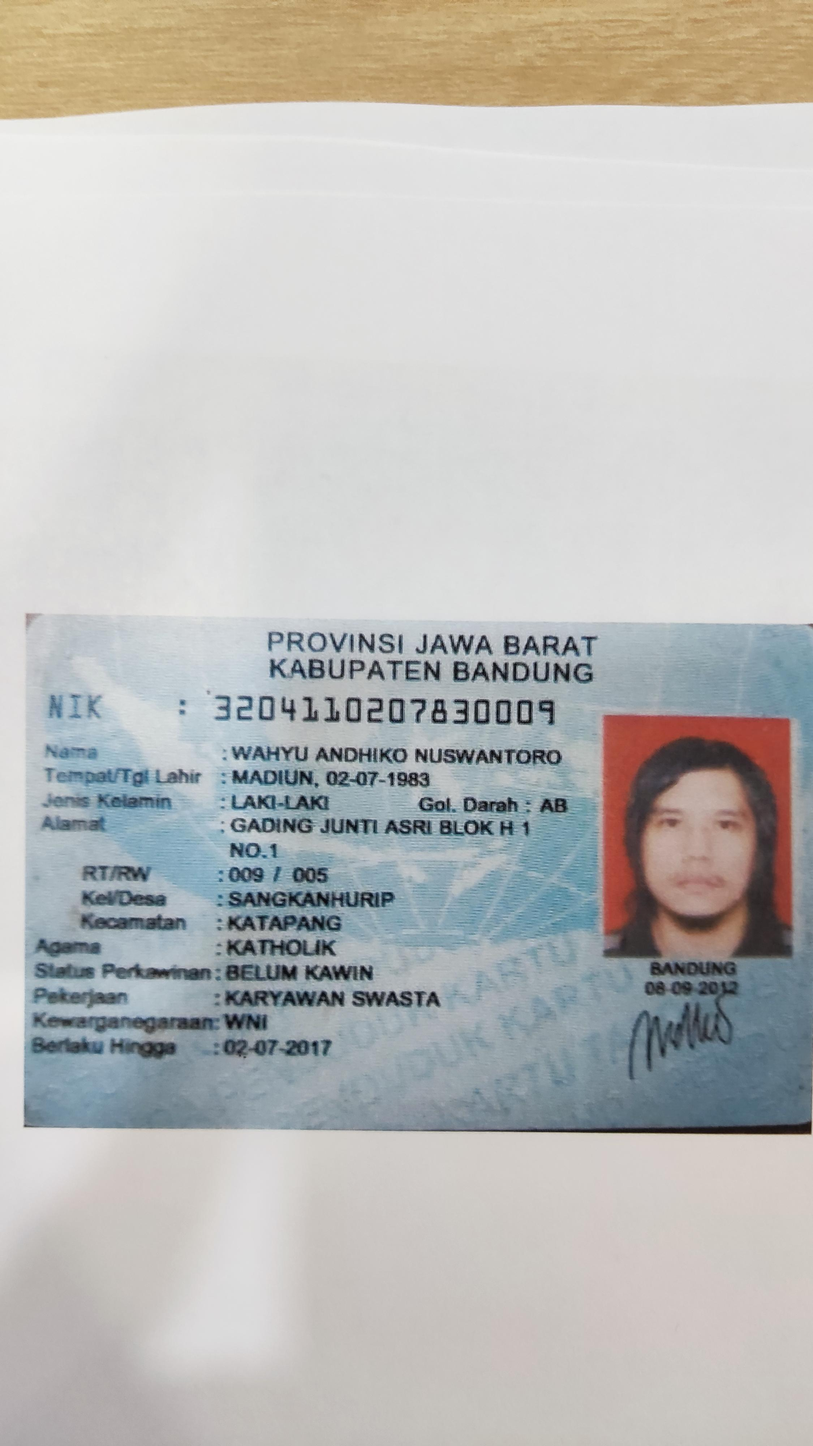ID-card: (28, 626, 804, 1119)
